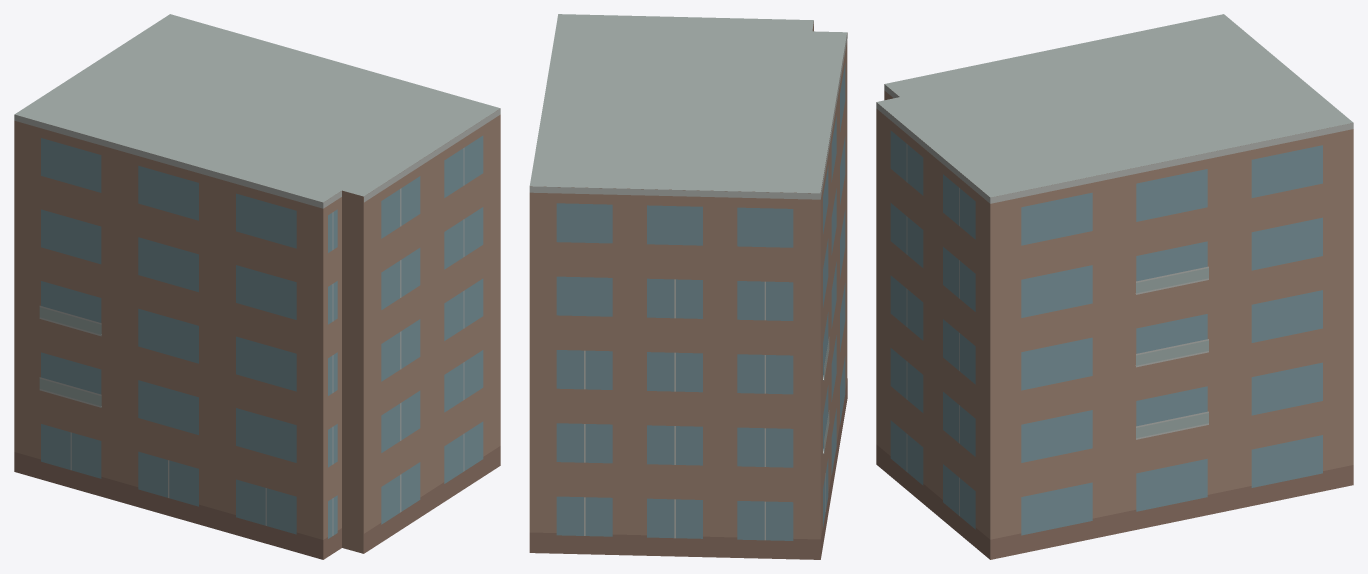
Rendered from survey-upis-32951506.glb.
3 renders of one model, left to right at view 1: azimuth 30°, elevation 25°; view 2: azimuth 150°, elevation 25°; view 3: azimuth 270°, elevation 25°, orthographic. The views are drawn at different scales.
Visible parts, largest first — view 1: survey-upis-32951506.tmp; view 2: survey-upis-32951506.tmp; view 3: survey-upis-32951506.tmp.
Boxes of the visible parts, bbox=[...] form: survey-upis-32951506.tmp: bbox=[14, 14, 500, 559]; survey-upis-32951506.tmp: bbox=[529, 14, 847, 559]; survey-upis-32951506.tmp: bbox=[876, 14, 1353, 559].
Bounding box in the file's own units: 15.33 × 14.1 × 16.85.
